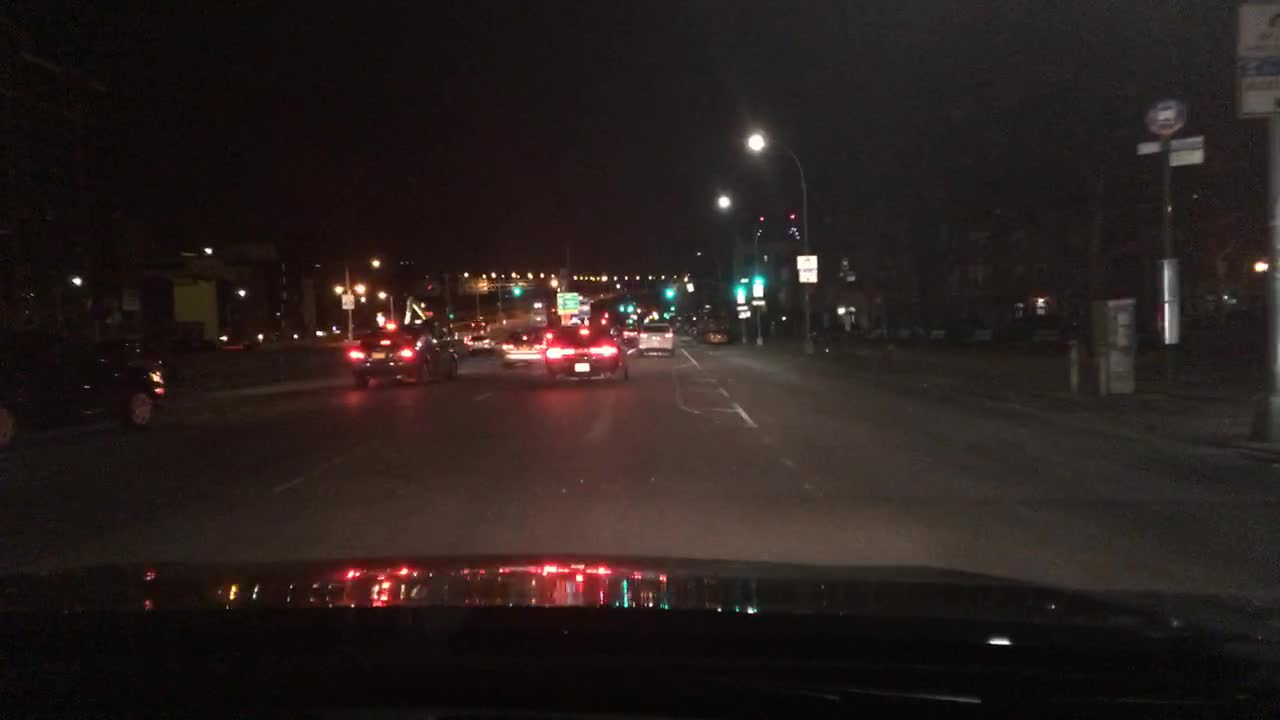car: (2, 331, 164, 446), (346, 326, 456, 386), (544, 328, 626, 378), (502, 331, 550, 366), (637, 321, 677, 354), (466, 335, 495, 354), (699, 328, 728, 344), (469, 315, 486, 331), (622, 325, 638, 338), (536, 309, 546, 323)
traffic light: (754, 274, 766, 284), (512, 283, 521, 295), (734, 284, 748, 291), (666, 284, 672, 300)
traffic sign: (1135, 133, 1202, 168), (1237, 5, 1279, 58), (1238, 65, 1279, 117), (1144, 101, 1186, 137), (556, 293, 581, 315), (796, 254, 819, 267), (341, 293, 356, 308), (799, 269, 816, 281), (754, 286, 766, 295), (749, 299, 766, 305), (739, 311, 749, 321), (736, 294, 746, 304), (738, 305, 752, 308)
truck: (397, 292, 438, 325)
